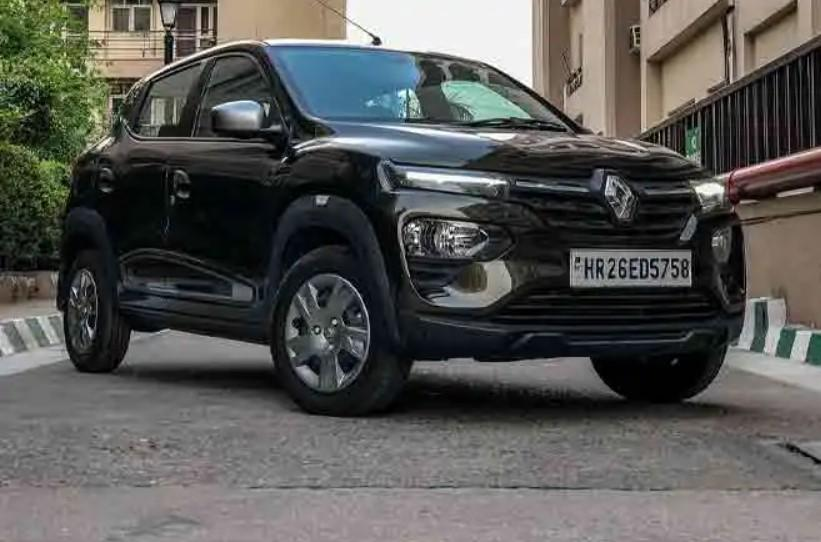Renault: (593, 164, 644, 231)
